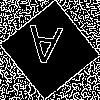A: (25, 25, 63, 74)
